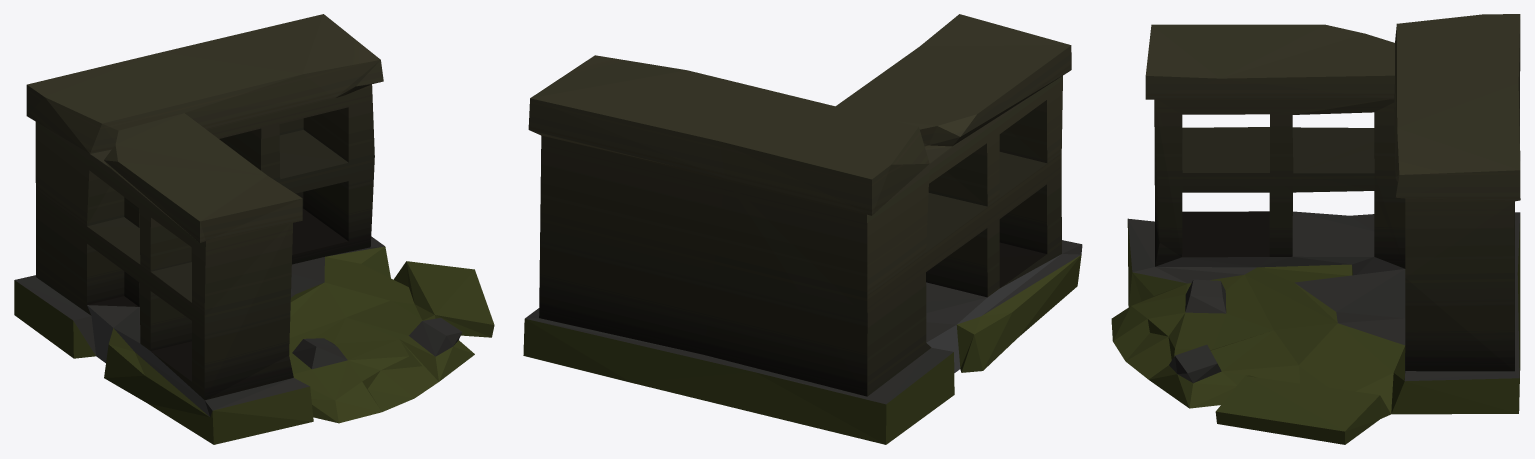
The model's file is EA_Grave_Columbarium_01a.fbx.
3 renders of one model, left to right at view 1: azimuth 30°, elevation 25°; view 2: azimuth 150°, elevation 25°; view 3: azimuth 270°, elevation 25°, orthographic. The views are drawn at different scales.
Visible parts, largest first — view 1: EA_Grave_Columbarium_01a_LOD0; view 2: EA_Grave_Columbarium_01a_LOD0; view 3: EA_Grave_Columbarium_01a_LOD0.
Part boxes in pixels (x1,y1,x2,y2): EA_Grave_Columbarium_01a_LOD0: (14,14,494,444); EA_Grave_Columbarium_01a_LOD0: (523,14,1082,444); EA_Grave_Columbarium_01a_LOD0: (1111,14,1520,444).
Size of what is drawn, in the model's own units: 5.96 by 3.44 by 5.25.
